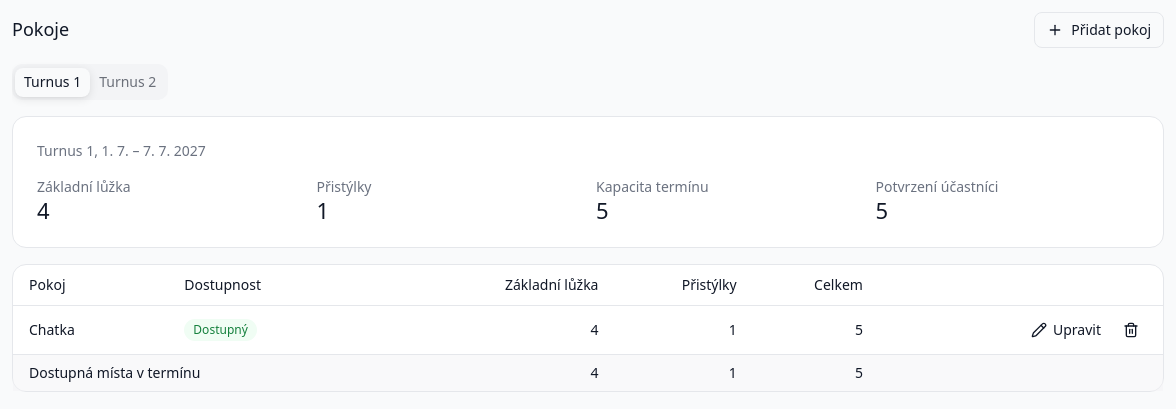
Test: RoomsSection › shows the base beds, extra beds and availability of the term picked in the tabs
Expected: the text "Dostupný" is shown, [184, 319, 257, 341]
Click the tab "Turnus 2": click(128, 82) [90, 68, 165, 96]
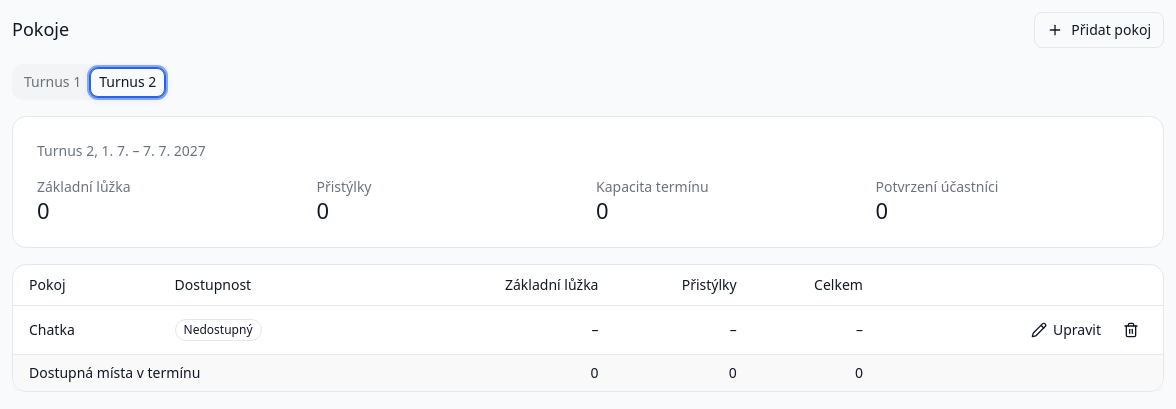
Expected: the text "–" is shown 3 times, [393, 305, 606, 354]; [606, 305, 745, 354]; [856, 320, 863, 339]
Expected: the text "Nedostupný" is shown, [175, 319, 262, 341]
